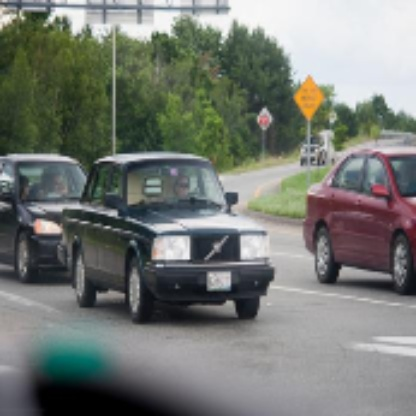Vehicle: (62, 155, 278, 320)
